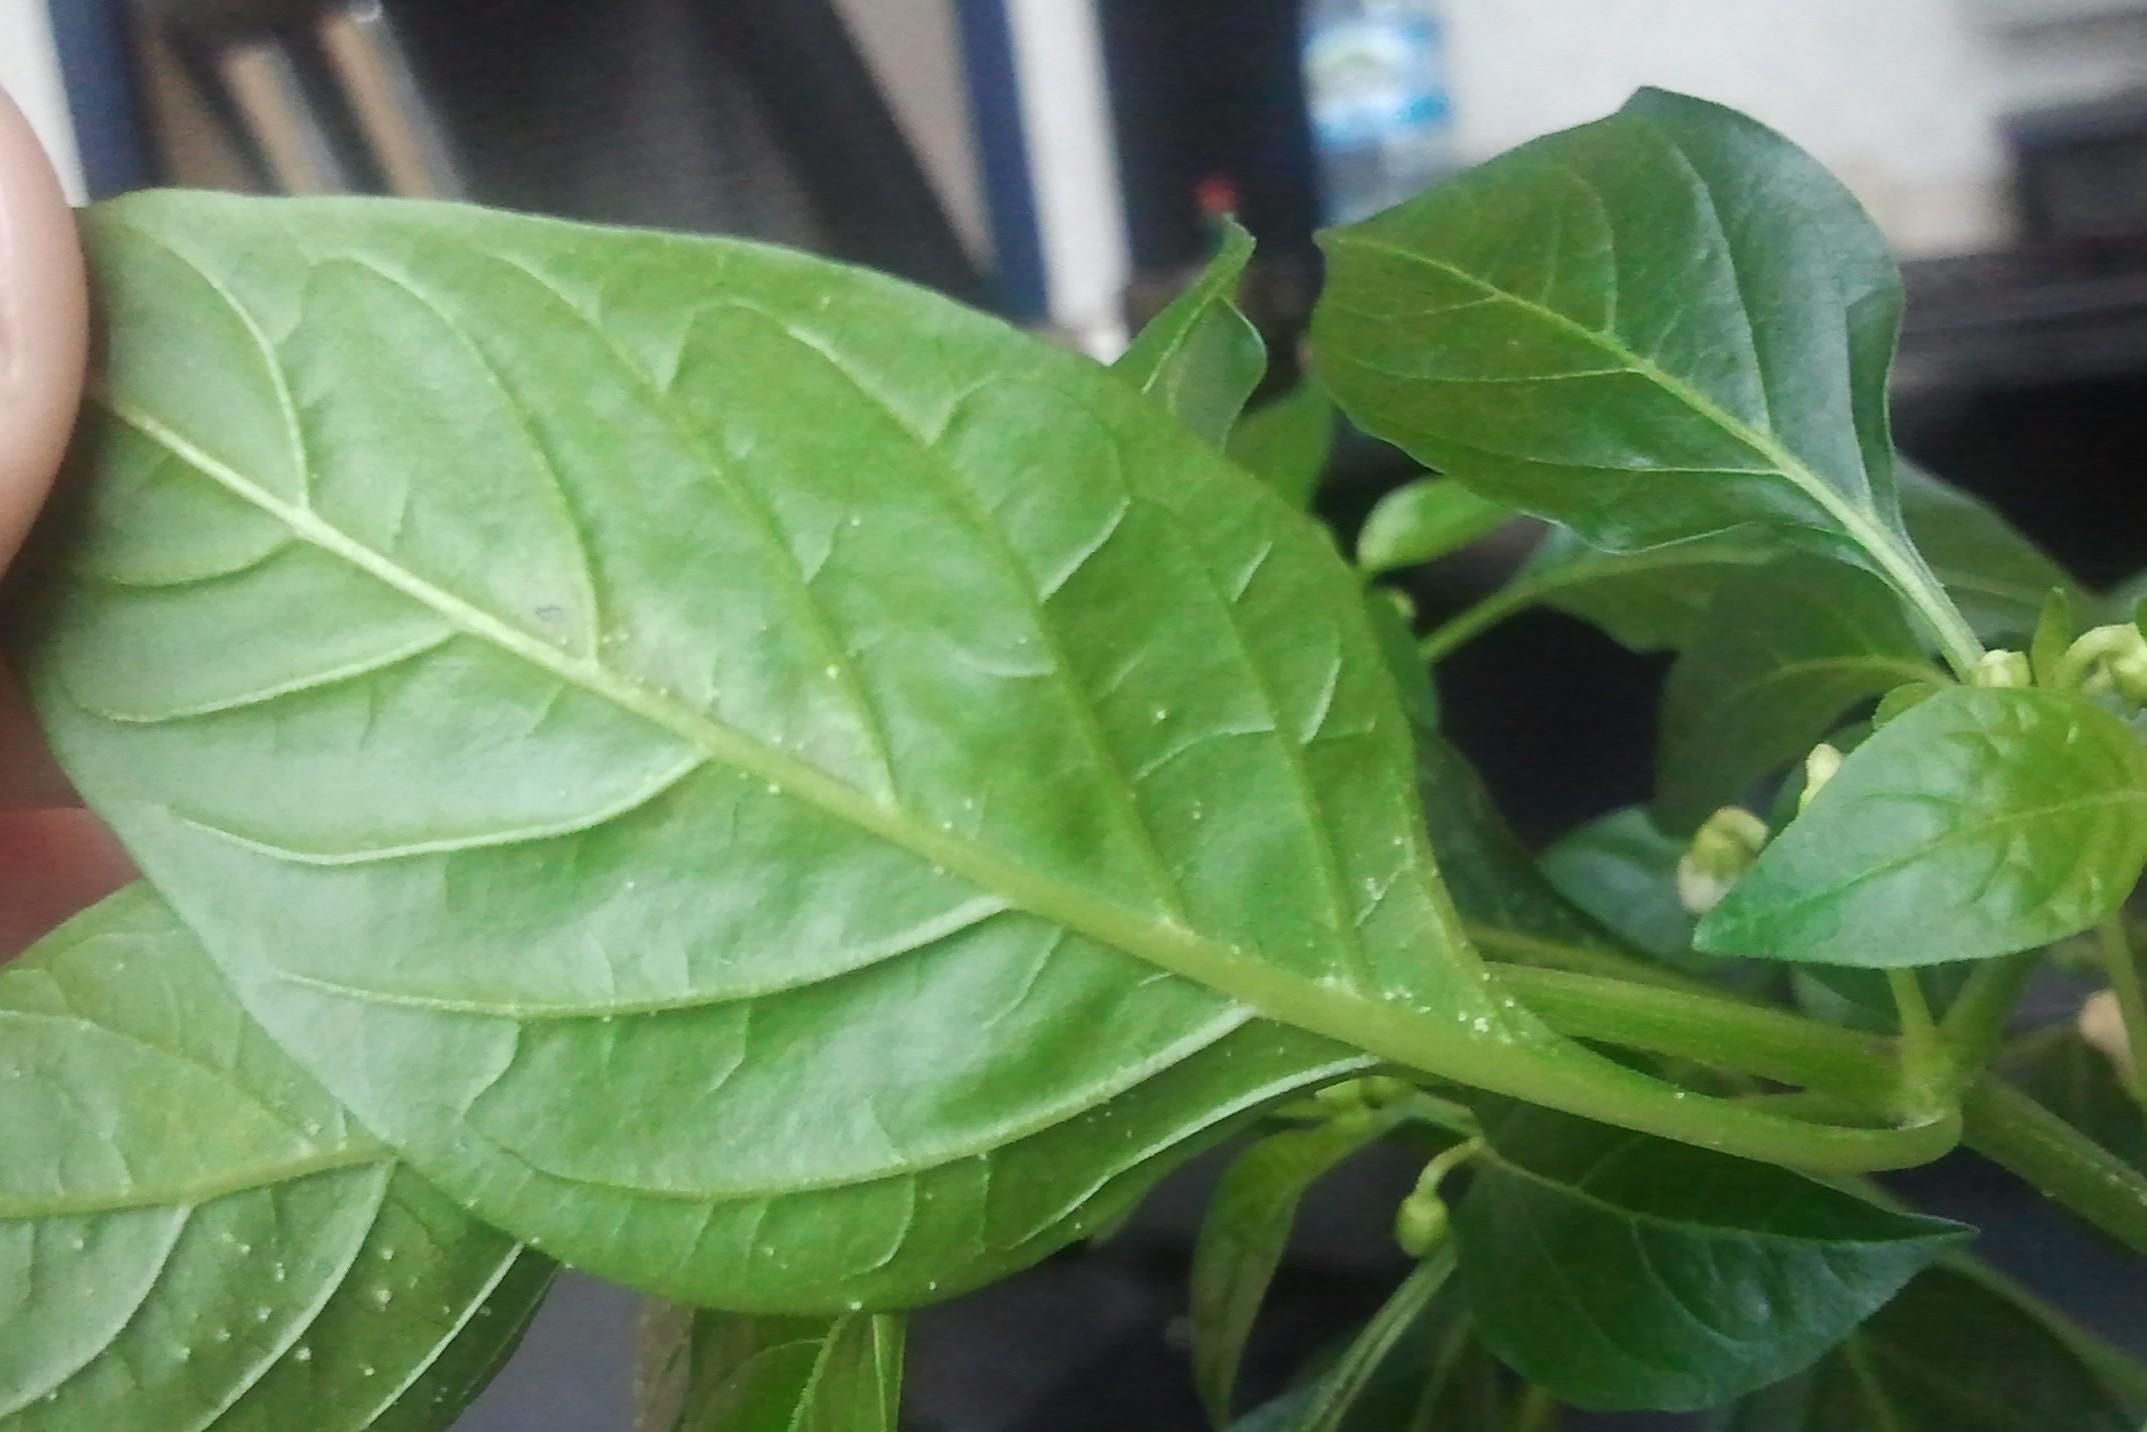Bell_pepper leaf spot: (14, 113, 1510, 1298), (1294, 70, 1938, 591), (1652, 673, 2147, 977)
